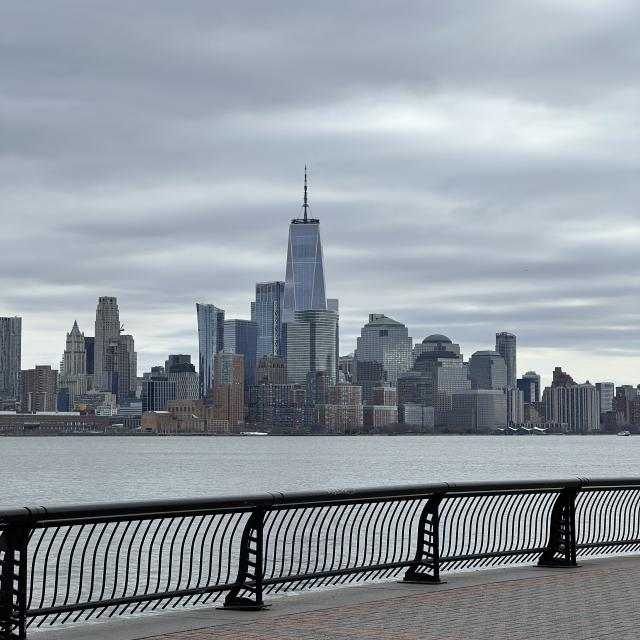WTC: (282, 163, 328, 310)
